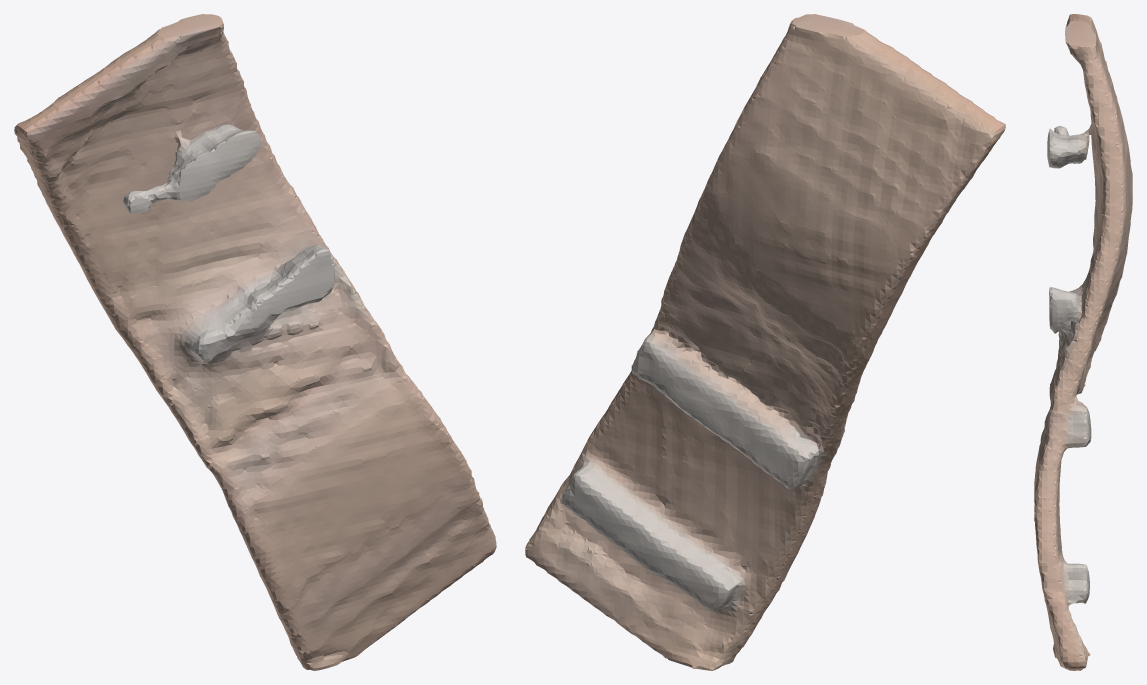
File: bacon.glb
The picture shows the model from 3 angles, left to right: view 1: azimuth 30°, elevation 25°; view 2: azimuth 150°, elevation 25°; view 3: azimuth 270°, elevation 25°; orthographic projection. The views are drawn at different scales.
Visible parts, largest first — view 1: geometry_0; view 2: geometry_0; view 3: geometry_0.
Boxes of the visible parts, x1,y1,x2,y2 form: geometry_0: [14, 14, 496, 670]; geometry_0: [525, 14, 1005, 670]; geometry_0: [1034, 14, 1132, 670].
Bounding box in the file's own units: 1.46 × 1.98 × 0.3102.
